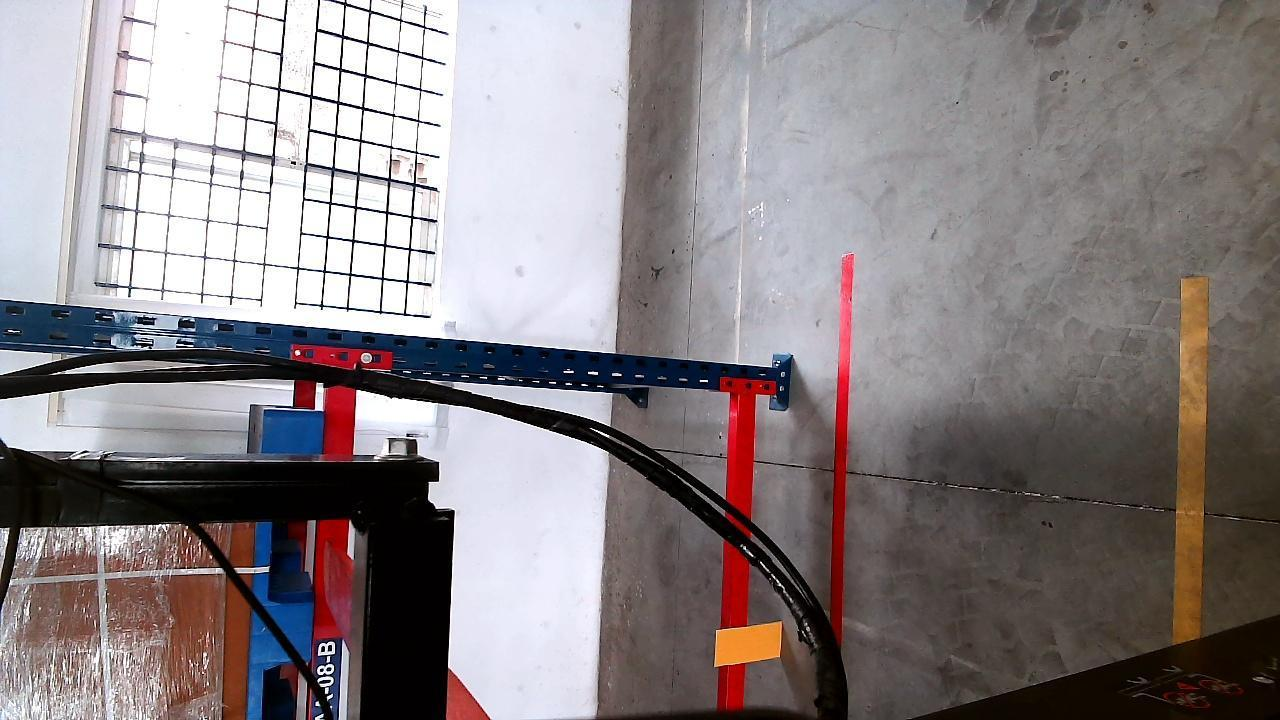h_rack: (310, 383, 355, 719), (722, 380, 756, 717)
orange_strip: (717, 623, 781, 665)
red_line: (829, 253, 854, 649)
small_pallet: (250, 403, 324, 720)
yellow_line: (1174, 276, 1210, 636)
